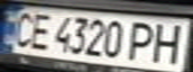0: (103, 17, 130, 60)
2: (84, 15, 109, 57)
3: (66, 14, 90, 56)
4: (48, 14, 75, 54)
C: (6, 9, 42, 48)
E: (24, 10, 57, 51)
H: (148, 20, 190, 65)
P: (124, 19, 163, 63)
